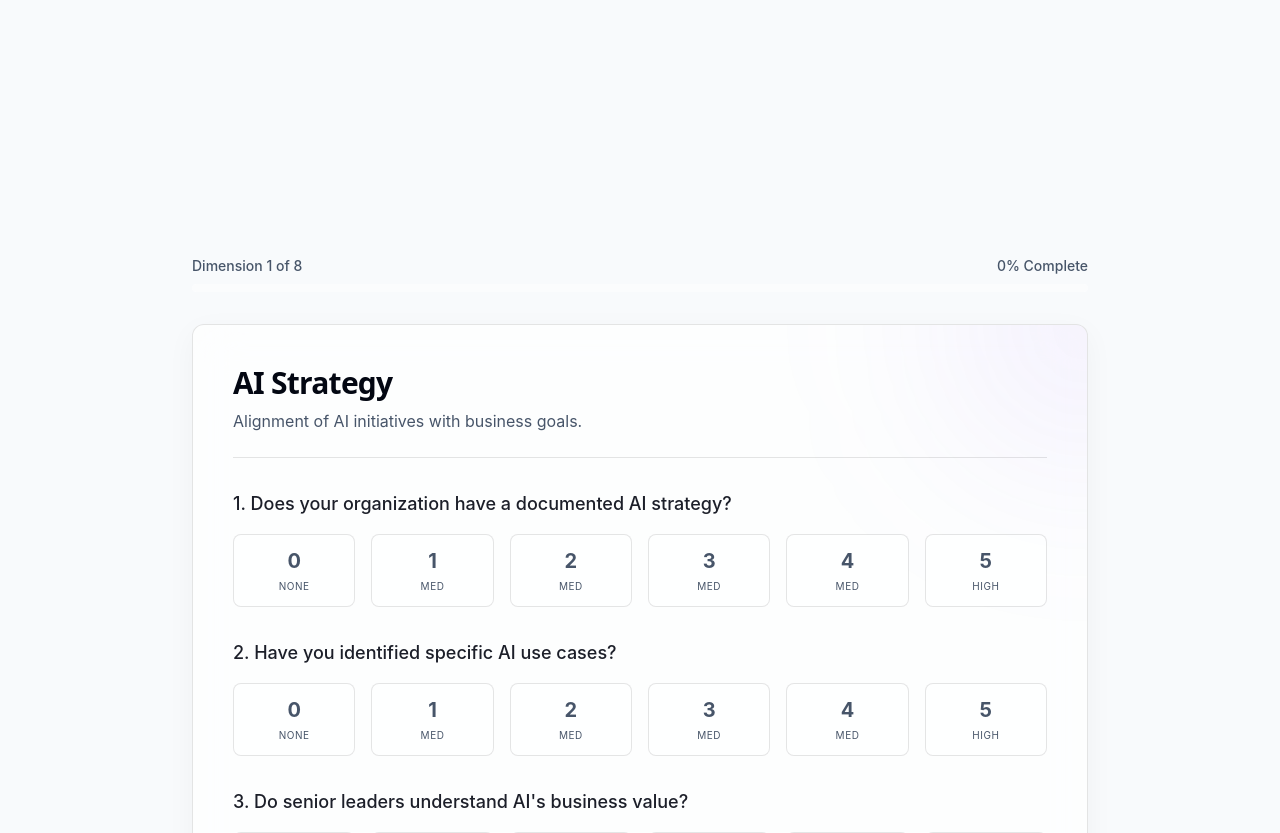
Test case: ReadinessAssessment › disables "Next Dimension" until every question in the dimension is answered
The width and height of the screenshot is (1280, 833).
Click the 1st button "3 Med" at (709, 570), box [648,534,770,607]
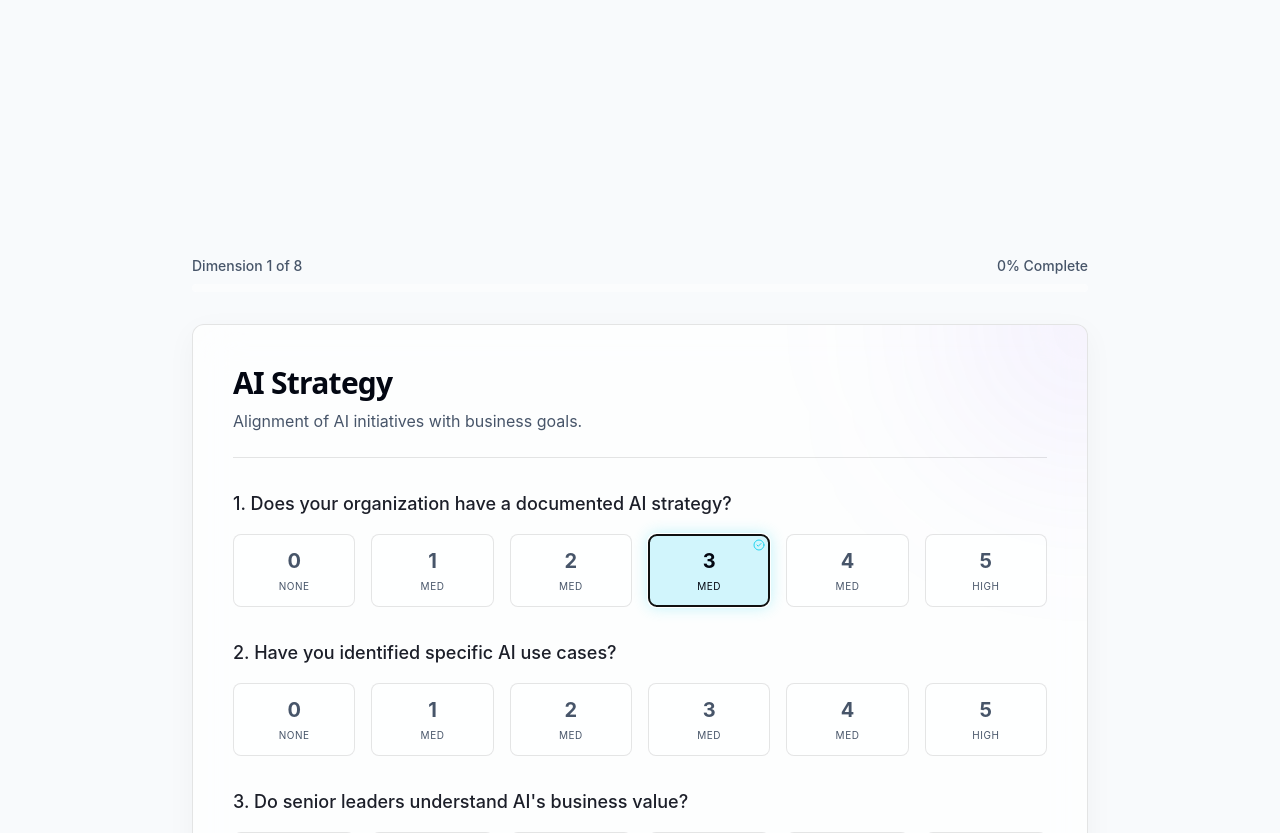
Click the 2nd button "3 Med" at (709, 720), box [648,683,770,756]
(page scrolled)
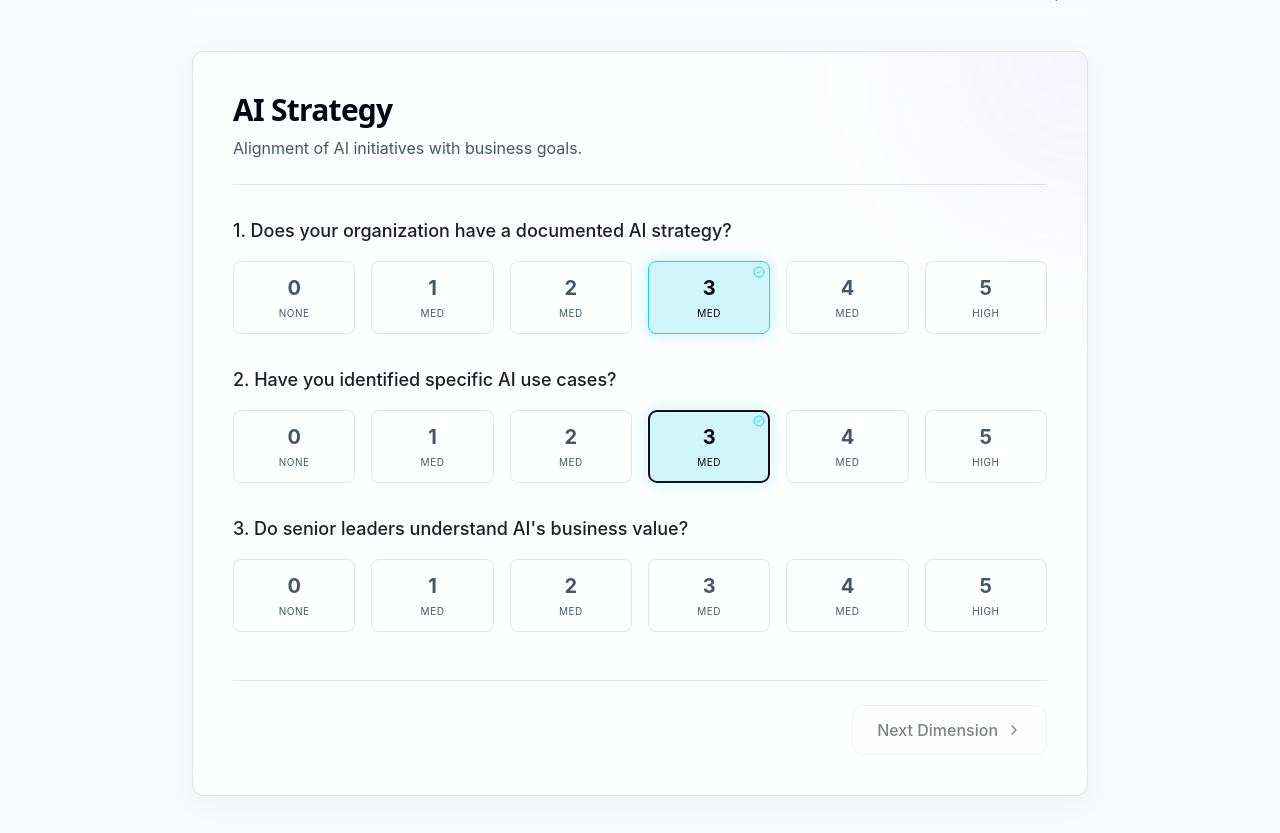
Expected: the button with test id "assessment-next-button" is disabled, [852,705,1047,755]
Click the 3rd button "3 Med" at (709, 596), box [648,559,770,632]
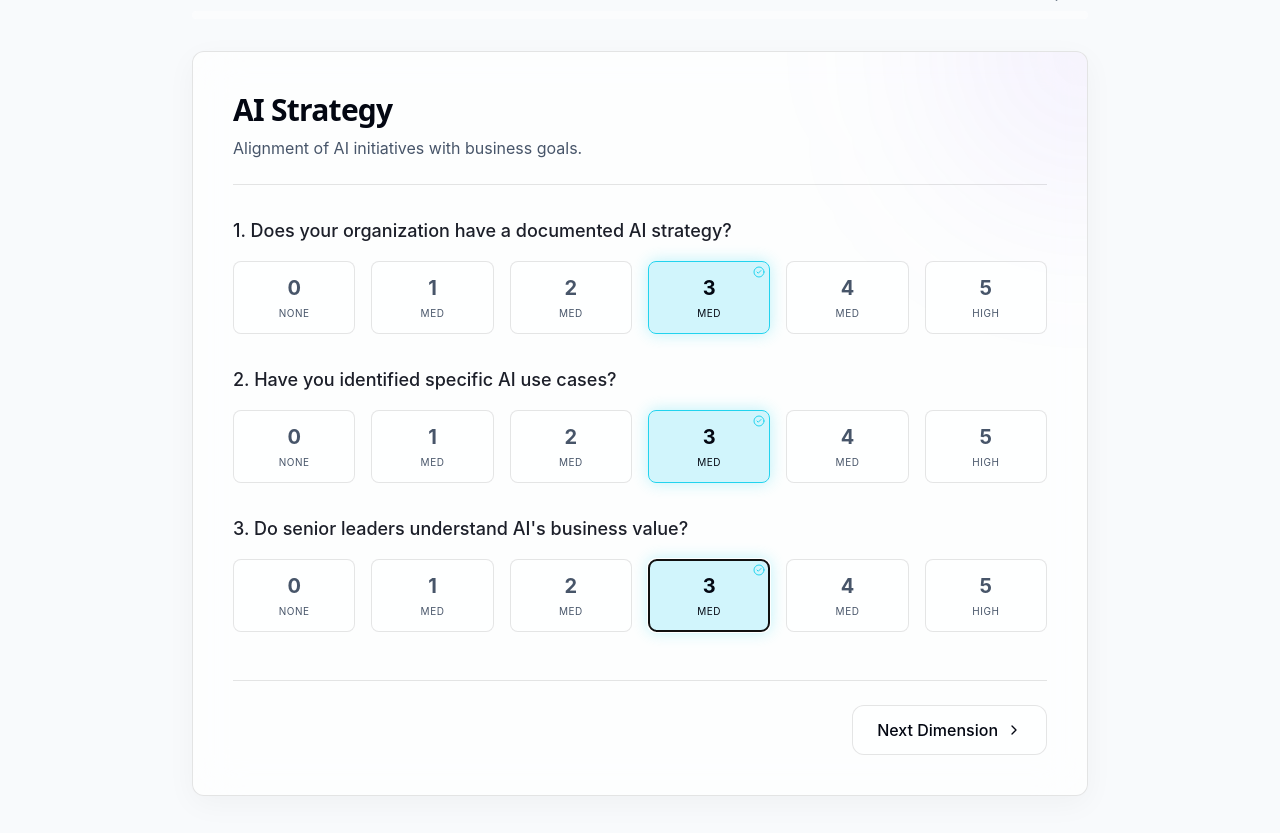
Expected: the button with test id "assessment-next-button" is enabled, [852,705,1047,755]
